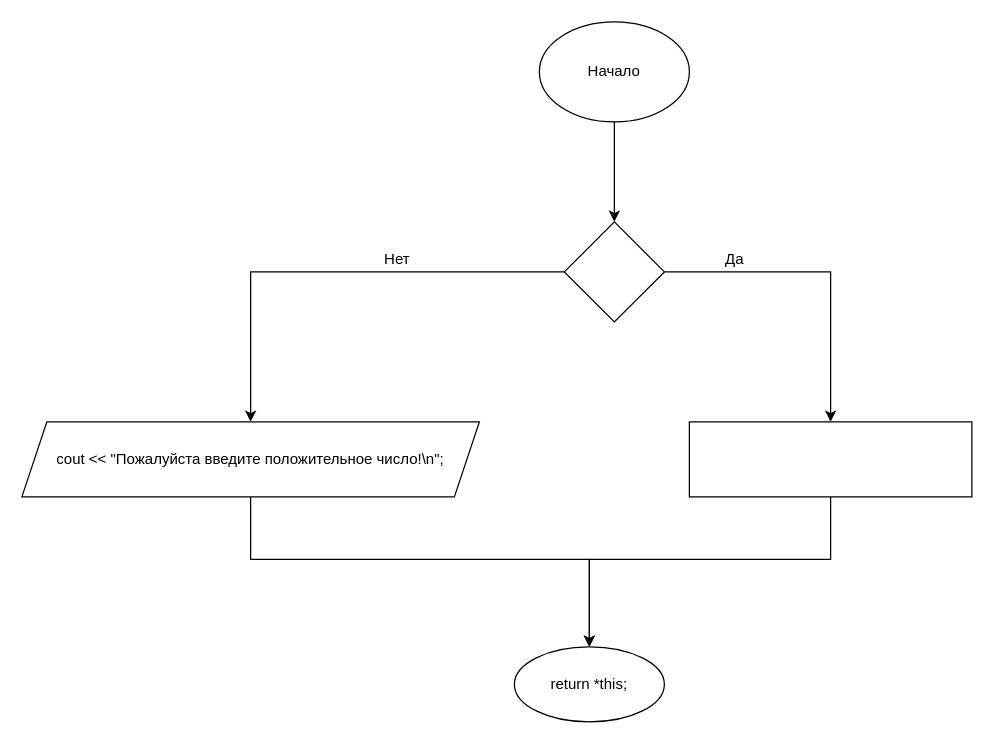
Some shapes in this 994 by 744 pixel diagram are drawn without their labels. The box of each missing label's shape, as (x1, y1, x2, y2) in pixels:
n >= 0: (563, 221, 664, 322)
this->volume -= min(this->volume, n);: (688, 421, 972, 497)
